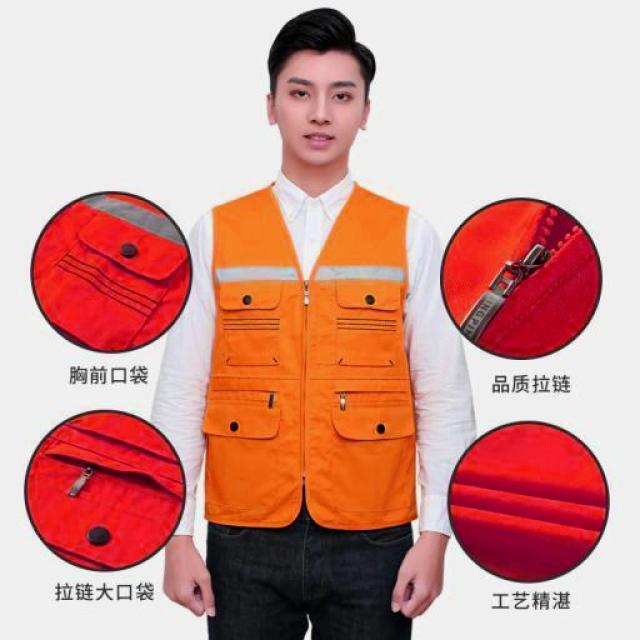face_nomask: (283, 80, 361, 156)
hand_noglove: (387, 528, 452, 622), (156, 530, 222, 622)
head_nohelmet: (262, 3, 379, 75)
person: (143, 4, 479, 640)
vest: (202, 191, 418, 534)
